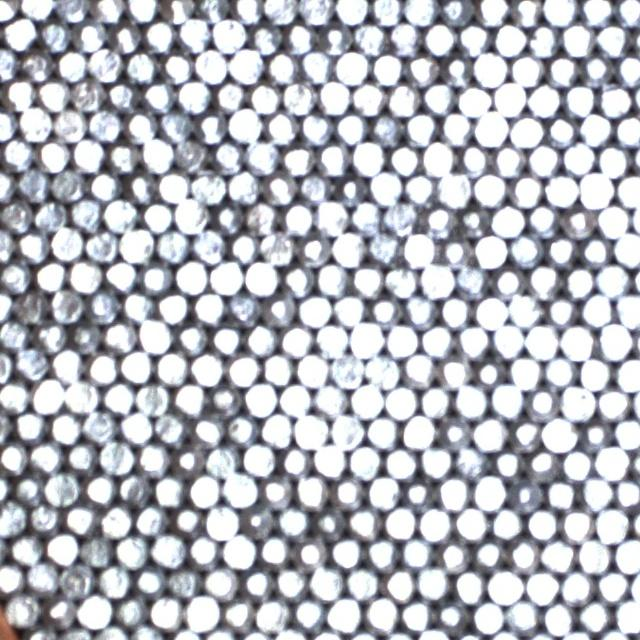tool: (596, 322, 632, 358), (326, 596, 362, 632), (437, 170, 472, 206), (329, 412, 364, 448), (212, 16, 247, 52), (14, 344, 49, 380), (99, 438, 134, 474), (82, 470, 117, 506), (491, 80, 526, 116), (49, 286, 84, 322), (59, 562, 94, 598), (524, 569, 559, 605), (44, 469, 79, 505), (576, 538, 612, 573), (472, 354, 508, 389), (559, 569, 594, 604), (506, 537, 541, 572), (488, 568, 523, 603), (509, 113, 544, 148), (419, 322, 454, 357), (560, 324, 595, 359), (185, 594, 220, 629), (316, 141, 351, 176), (229, 47, 264, 82), (402, 232, 437, 267), (293, 412, 328, 447), (419, 262, 454, 297), (595, 568, 630, 603), (453, 383, 488, 418), (191, 168, 226, 203), (153, 409, 188, 444), (316, 79, 351, 114), (559, 384, 594, 419), (66, 258, 101, 293), (204, 503, 239, 538), (64, 377, 99, 412), (330, 351, 365, 386), (117, 470, 152, 505), (118, 409, 153, 444), (27, 497, 62, 532), (473, 111, 508, 146), (96, 563, 131, 598), (242, 440, 276, 476), (203, 564, 239, 598), (365, 595, 399, 631), (166, 564, 202, 598), (506, 293, 542, 327), (366, 412, 400, 448), (418, 442, 452, 478), (31, 376, 65, 412), (222, 472, 258, 506), (349, 382, 383, 418), (347, 443, 381, 479), (576, 598, 612, 632), (544, 172, 578, 207), (255, 596, 289, 631), (2, 15, 36, 50), (228, 107, 262, 142), (309, 565, 344, 599), (456, 82, 490, 117), (332, 292, 367, 326), (205, 443, 240, 477), (280, 142, 315, 176), (366, 474, 401, 508), (383, 445, 417, 480), (28, 438, 63, 472), (77, 593, 112, 627), (51, 167, 86, 201), (384, 322, 419, 356), (471, 475, 506, 509), (154, 350, 189, 384), (491, 322, 525, 357), (542, 415, 576, 450), (456, 142, 491, 176), (596, 143, 630, 178), (52, 107, 87, 141), (561, 140, 595, 175), (137, 441, 171, 476), (0, 136, 35, 170), (292, 595, 326, 630), (542, 600, 576, 635), (86, 287, 120, 322), (192, 289, 226, 324), (491, 142, 525, 177), (541, 537, 575, 572), (174, 138, 209, 172), (174, 258, 208, 293), (383, 384, 418, 418), (63, 500, 98, 534), (64, 438, 98, 473), (345, 565, 379, 600), (277, 443, 311, 478), (596, 385, 630, 420), (115, 533, 149, 568), (420, 141, 454, 176), (329, 534, 364, 568), (36, 137, 70, 172), (140, 136, 174, 171), (25, 560, 60, 594), (242, 502, 277, 536), (505, 598, 540, 632), (244, 138, 278, 173), (402, 293, 437, 327), (190, 411, 224, 446), (471, 536, 505, 571), (226, 292, 261, 326), (490, 382, 524, 417), (544, 293, 578, 328), (102, 379, 136, 414), (293, 535, 328, 569), (83, 408, 117, 443), (98, 503, 133, 537), (578, 172, 612, 207), (472, 51, 507, 85), (297, 292, 331, 327), (135, 381, 170, 415), (17, 106, 52, 140), (384, 200, 418, 235), (349, 321, 383, 356), (508, 477, 543, 511), (472, 232, 507, 266), (221, 533, 255, 568), (560, 507, 594, 542), (401, 475, 435, 510), (177, 16, 210, 52), (221, 596, 254, 632), (190, 351, 224, 385), (382, 566, 416, 600), (88, 46, 122, 80), (416, 566, 450, 600), (595, 22, 629, 56), (103, 318, 137, 352), (594, 445, 628, 479), (493, 22, 527, 56), (140, 198, 174, 232), (315, 321, 349, 355), (211, 140, 245, 174), (188, 472, 222, 506), (193, 48, 227, 82), (436, 475, 470, 509), (561, 22, 595, 56), (261, 351, 295, 385), (366, 352, 400, 386), (418, 384, 452, 418), (138, 318, 172, 352), (544, 476, 578, 510), (472, 172, 506, 206), (156, 290, 190, 324), (438, 294, 472, 328), (312, 442, 346, 476), (295, 352, 329, 386), (595, 262, 629, 296), (88, 107, 122, 141), (384, 262, 418, 296), (279, 322, 313, 356), (294, 474, 328, 508), (352, 140, 386, 174), (134, 502, 168, 536), (227, 169, 261, 203), (579, 293, 613, 327), (544, 233, 578, 267), (209, 259, 243, 293), (331, 231, 365, 265), (260, 474, 294, 508), (50, 348, 84, 382), (6, 591, 40, 625), (334, 110, 368, 144), (315, 260, 349, 294), (32, 319, 66, 353), (33, 198, 67, 232), (139, 259, 173, 293), (508, 418, 542, 452), (331, 474, 365, 508), (456, 21, 490, 55), (244, 200, 278, 234), (509, 232, 543, 266), (263, 170, 297, 204), (50, 226, 84, 260), (596, 82, 630, 116), (16, 166, 50, 200), (455, 323, 489, 357), (264, 109, 298, 143), (418, 506, 452, 540), (151, 532, 185, 566), (594, 507, 628, 541), (262, 293, 296, 327), (545, 113, 579, 147), (335, 50, 369, 84), (579, 476, 613, 510), (281, 79, 315, 113), (509, 172, 543, 206), (401, 414, 435, 448), (226, 351, 260, 385), (244, 260, 278, 294), (526, 265, 560, 299), (438, 414, 472, 448), (472, 416, 506, 450), (243, 381, 277, 415), (350, 262, 384, 296), (38, 17, 72, 51), (454, 444, 488, 478), (456, 262, 490, 296), (352, 20, 386, 54), (434, 598, 468, 632), (194, 109, 228, 143), (71, 138, 105, 172), (367, 230, 401, 264), (240, 565, 274, 599), (383, 504, 417, 538), (276, 503, 310, 537), (526, 82, 560, 116), (192, 228, 226, 262), (120, 228, 154, 262), (313, 382, 347, 416), (399, 598, 433, 632), (402, 352, 436, 386), (298, 170, 332, 204), (124, 48, 158, 82), (133, 563, 167, 597), (149, 595, 183, 629), (560, 205, 594, 239), (508, 354, 542, 388), (454, 506, 488, 540), (74, 18, 108, 52), (526, 22, 560, 56), (578, 356, 612, 390), (174, 198, 208, 232), (80, 532, 114, 566), (69, 320, 103, 354), (120, 289, 154, 323), (224, 412, 258, 446), (172, 382, 206, 416), (524, 506, 558, 540), (208, 383, 242, 417), (349, 200, 383, 234), (156, 228, 190, 262), (246, 80, 280, 114), (348, 505, 382, 539), (455, 204, 489, 238), (526, 203, 560, 237), (274, 566, 308, 600), (524, 385, 558, 419), (44, 530, 78, 564), (249, 20, 283, 54), (86, 349, 119, 384), (119, 348, 152, 383), (103, 258, 138, 291), (365, 535, 398, 570), (525, 323, 558, 358), (48, 409, 81, 444), (474, 295, 507, 330), (440, 234, 473, 269), (490, 204, 525, 237), (526, 142, 559, 177), (526, 447, 559, 482), (315, 200, 348, 234), (389, 20, 422, 54), (103, 198, 137, 231), (563, 264, 596, 298), (281, 263, 315, 296), (369, 169, 402, 203), (87, 168, 120, 202), (157, 169, 190, 203), (560, 447, 593, 481), (209, 322, 243, 355), (15, 288, 48, 322), (260, 411, 293, 445), (152, 473, 186, 506), (386, 82, 420, 115), (471, 599, 504, 633), (244, 322, 277, 356), (493, 265, 526, 299), (596, 203, 630, 236), (13, 408, 46, 442), (579, 112, 612, 146), (55, 46, 88, 80), (542, 354, 576, 387), (562, 83, 596, 116), (369, 293, 402, 327), (352, 80, 385, 114), (177, 78, 210, 112), (281, 200, 314, 234), (437, 538, 470, 572), (160, 108, 193, 142), (421, 81, 455, 114), (175, 321, 208, 355), (170, 502, 203, 536), (115, 593, 148, 627), (490, 447, 524, 480), (403, 171, 436, 205), (278, 382, 311, 416), (297, 232, 330, 266), (314, 506, 348, 539), (299, 48, 332, 82), (453, 570, 486, 604), (438, 355, 472, 388), (20, 46, 53, 80), (509, 52, 543, 85), (261, 230, 294, 264), (579, 52, 612, 86), (490, 506, 523, 540), (213, 78, 246, 112), (124, 110, 158, 143), (9, 532, 43, 565), (299, 111, 332, 145), (187, 533, 221, 566), (105, 78, 139, 111), (578, 418, 612, 451), (334, 172, 368, 205), (258, 533, 292, 566), (172, 442, 205, 476), (439, 54, 472, 88), (107, 140, 140, 173), (404, 111, 437, 144), (422, 21, 455, 54), (370, 112, 403, 145), (284, 21, 317, 54), (160, 49, 193, 82), (110, 20, 143, 53), (3, 77, 36, 110), (371, 51, 404, 84), (44, 594, 77, 627), (16, 229, 49, 262), (86, 228, 119, 261), (545, 53, 578, 86), (142, 78, 175, 111), (422, 204, 455, 237), (70, 77, 103, 110), (266, 49, 298, 83), (440, 110, 472, 144), (144, 18, 176, 52), (34, 258, 66, 292), (70, 196, 102, 230), (0, 197, 32, 231), (12, 471, 44, 505), (406, 52, 438, 86), (400, 535, 432, 569), (388, 143, 420, 176), (124, 171, 156, 204), (37, 78, 70, 110), (212, 202, 245, 234), (228, 230, 260, 263), (320, 22, 353, 54), (580, 234, 612, 267), (0, 258, 31, 292), (0, 316, 29, 351), (0, 378, 29, 412), (0, 440, 28, 474), (613, 231, 640, 266), (613, 598, 640, 632), (613, 475, 640, 509), (614, 537, 640, 572), (439, 0, 474, 26), (509, 0, 542, 27), (476, 0, 509, 27), (614, 416, 640, 450), (614, 112, 640, 146), (580, 0, 614, 26), (0, 501, 26, 535), (614, 357, 640, 391), (403, 0, 438, 25), (615, 292, 640, 327), (615, 173, 640, 207), (615, 52, 640, 86), (543, 0, 577, 24), (334, 0, 368, 24), (162, 0, 196, 24), (232, 0, 264, 25), (370, 0, 402, 25), (92, 0, 125, 24), (0, 560, 24, 593), (197, 0, 230, 24), (264, 0, 298, 23), (299, 0, 333, 23), (126, 0, 160, 22), (55, 0, 90, 21), (614, 0, 640, 27), (0, 46, 20, 80), (130, 622, 166, 640), (20, 0, 54, 19), (25, 621, 58, 640), (0, 107, 17, 141), (95, 623, 128, 640), (59, 624, 93, 640), (0, 167, 16, 200), (168, 625, 202, 640), (0, 227, 15, 261), (0, 288, 14, 322), (0, 0, 20, 21)
